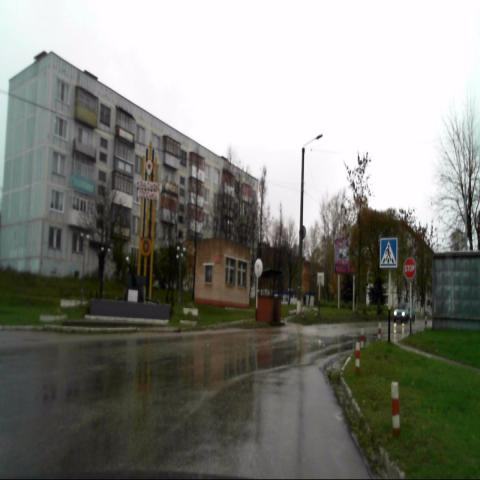2_5: (403, 257, 416, 279)
